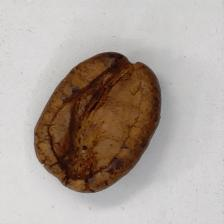NG: (47, 65, 136, 177)
